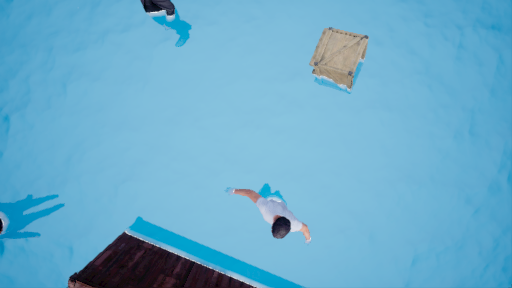person: (236, 185, 316, 252)
